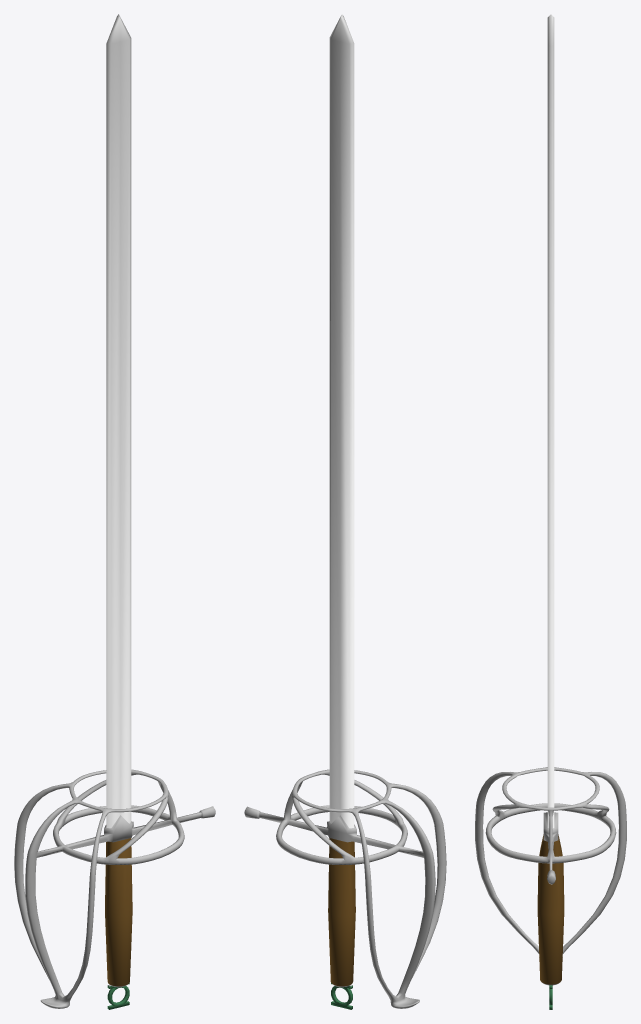
File: rapier.fbx
3 views of the same model, side by side, from view 1: azimuth 30°, elevation 25°; view 2: azimuth 150°, elevation 25°; view 3: azimuth 270°, elevation 25° (orthographic).
Parts seen in each view (by area): view 1: rapier; view 2: rapier; view 3: rapier.
Part boxes in pixels (x1,y1,x2,y2): rapier: (14,14,215,1009); rapier: (244,14,446,1009); rapier: (475,14,626,1009).
Bounding box in the file's own units: 29.91 × 151 × 20.92.
